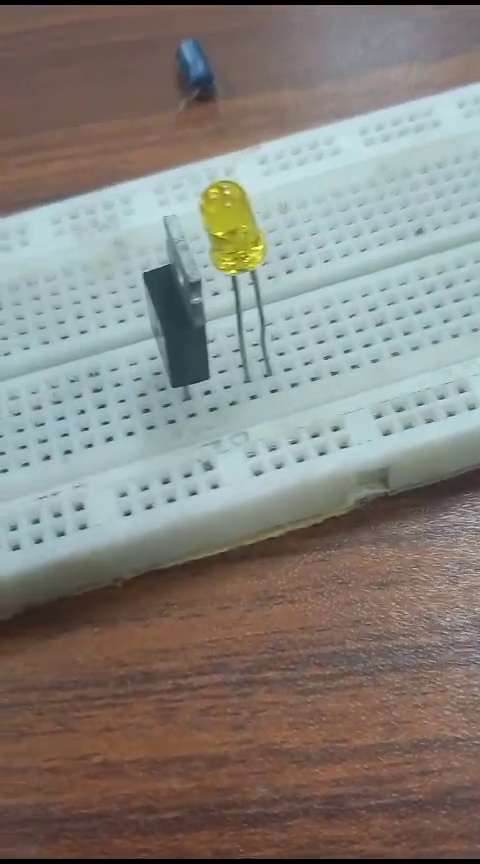LED: (196, 183, 276, 377)
voltage regulator: (128, 219, 212, 383)
